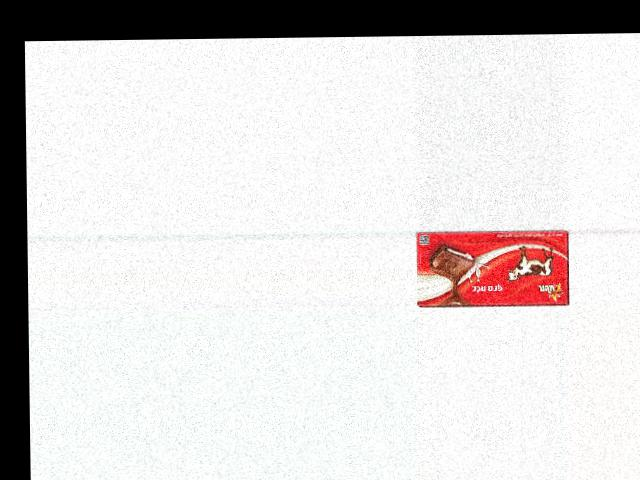chocolate: (416, 229, 572, 307)
